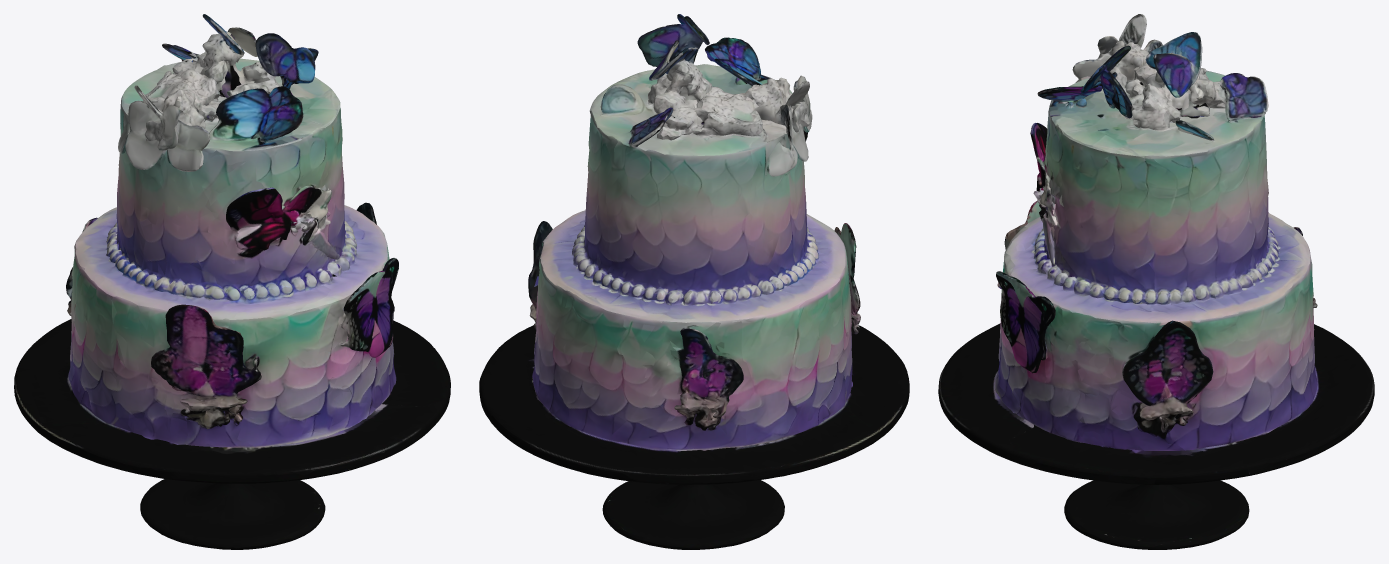
The picture shows the model from 3 angles, left to right: view 1: azimuth 30°, elevation 25°; view 2: azimuth 150°, elevation 25°; view 3: azimuth 270°, elevation 25°; orthographic projection.
Parts seen in each view (by area): view 1: textured_mesh; view 2: textured_mesh; view 3: textured_mesh.
Boxes of the visible parts, x1,y1,x2,y2 form: textured_mesh: (14,14,450,549); textured_mesh: (479,14,909,549); textured_mesh: (938,14,1374,549).
Size of the model in its own units: 1.61 by 1.97 by 1.63.
Materials: 1 (1 with a texture image).
